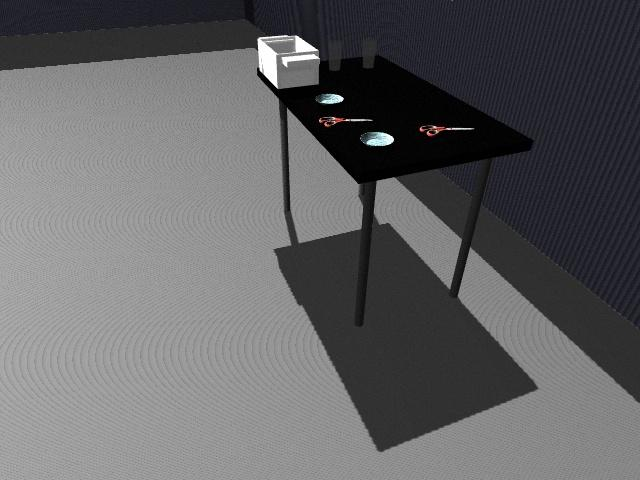cup: (328, 39, 343, 72), (362, 37, 376, 69)
plate: (359, 131, 396, 147), (315, 93, 345, 105)
scissors: (419, 125, 475, 137), (319, 116, 371, 127)
